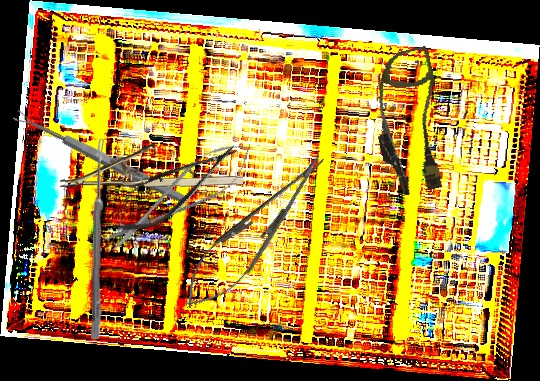Cannula: (360, 45, 459, 199)
Micro Scissor: (96, 128, 264, 264), (101, 129, 248, 246)
Needle Holder: (170, 141, 340, 323), (59, 142, 244, 191)
Surgical Spoon: (12, 108, 189, 206), (91, 138, 105, 340)
